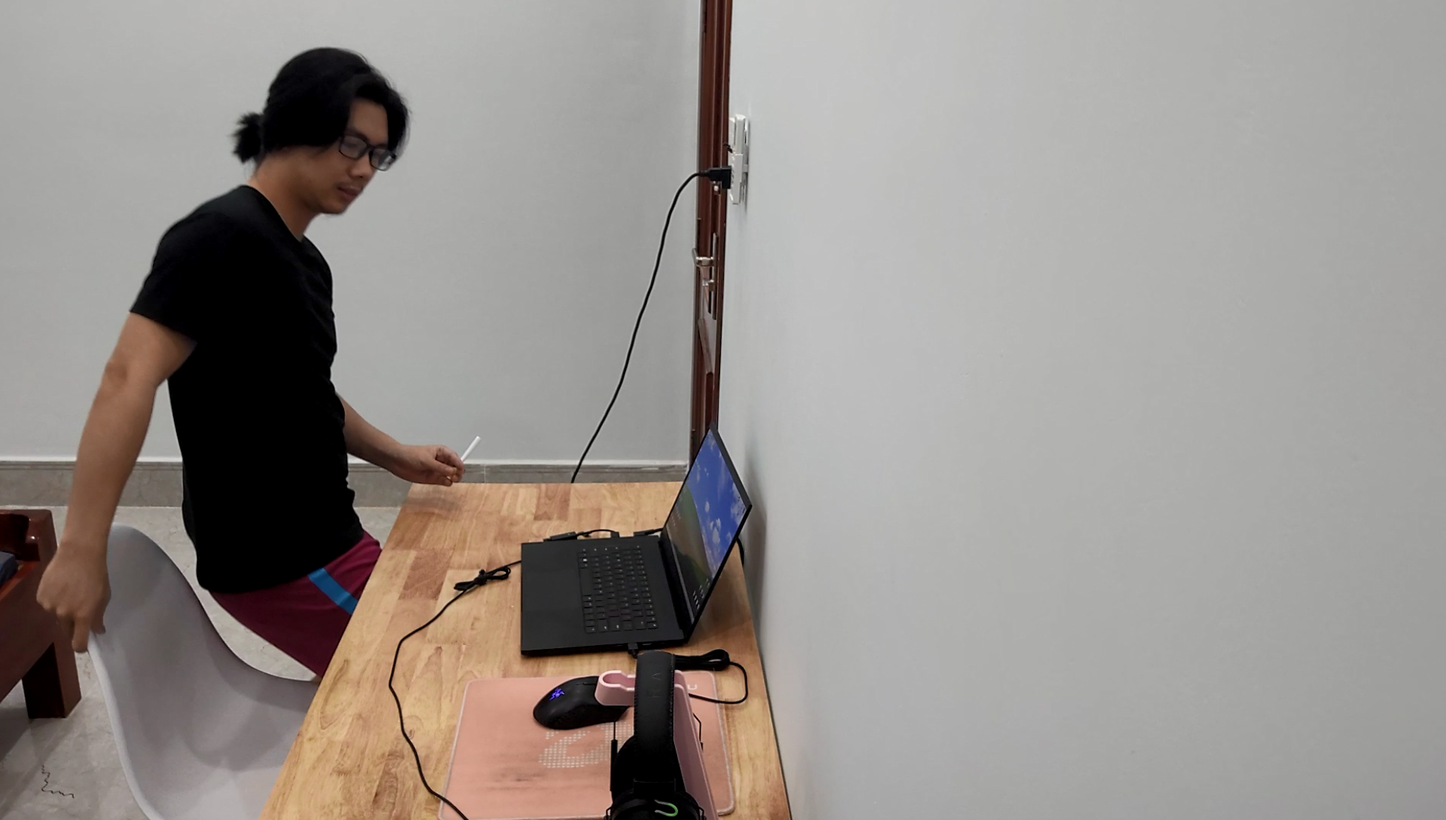cigarette: (460, 427, 487, 464)
person: (93, 20, 472, 644)
